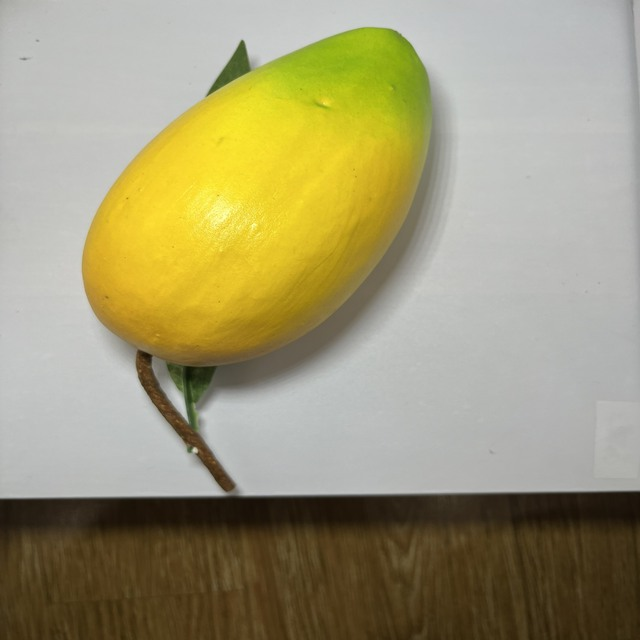Xoai: (68, 21, 450, 374)
